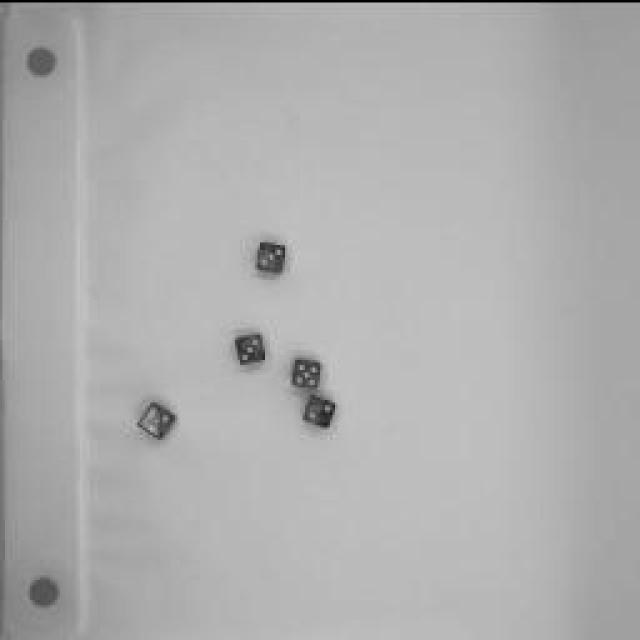dice_2: (302, 390, 338, 430)
dice_3: (251, 232, 294, 278), (135, 395, 180, 437), (234, 329, 268, 366)
dice_5: (288, 351, 328, 391)
